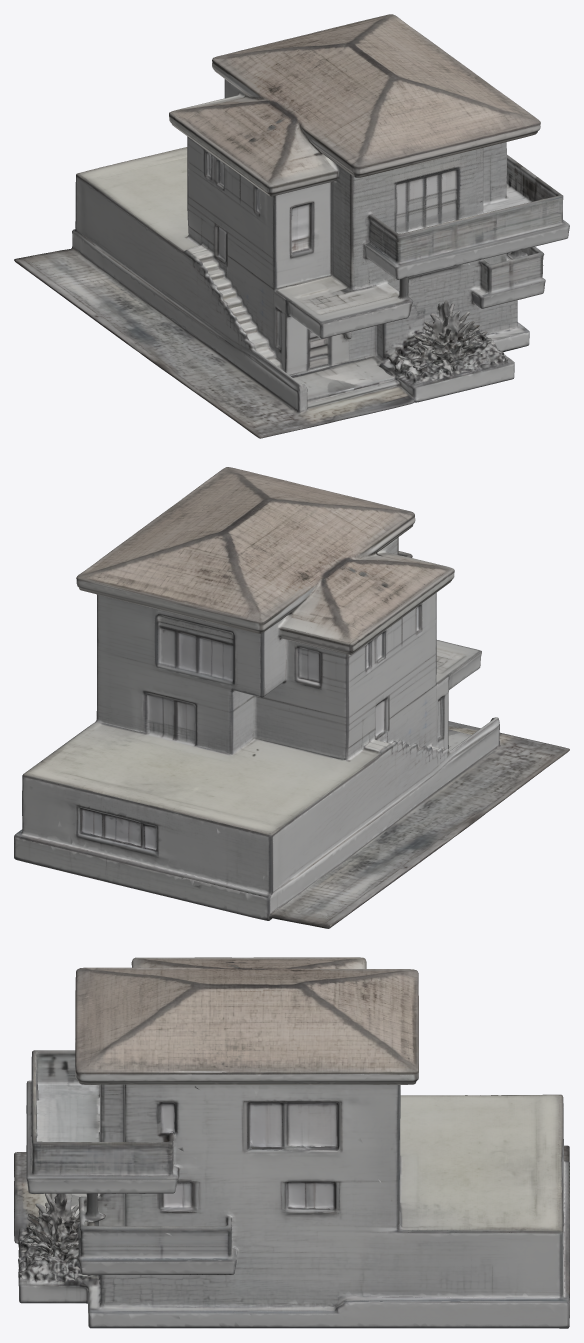
Rendered from house.glb.
3 views of the same model, one above another, from view 1: azimuth 30°, elevation 25°; view 2: azimuth 150°, elevation 25°; view 3: azimuth 270°, elevation 25° (orthographic). The views are drawn at different scales.
Visible parts, largest first — view 1: world; view 2: world; view 3: world.
Boxes of the visible parts, <box> form: world: <box>14,14,569,438</box>; world: <box>14,467,569,928</box>; world: <box>14,957,569,1328</box>.
Size of the model in its own units: 0.7696 by 0.5861 by 1.
Materials: 1 (1 with a texture image).
